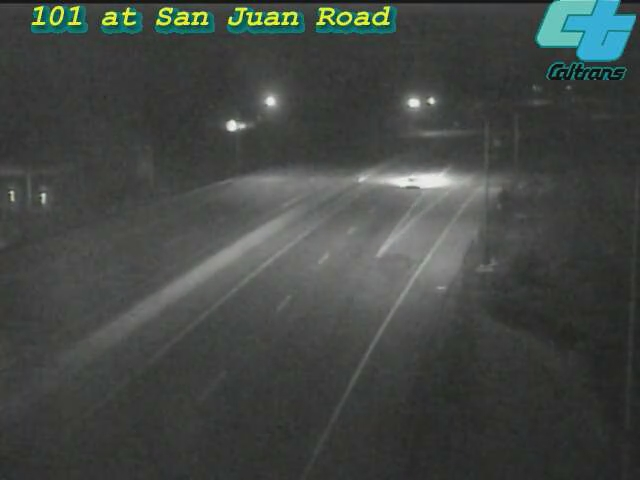vehicle: (370, 143, 450, 223)
